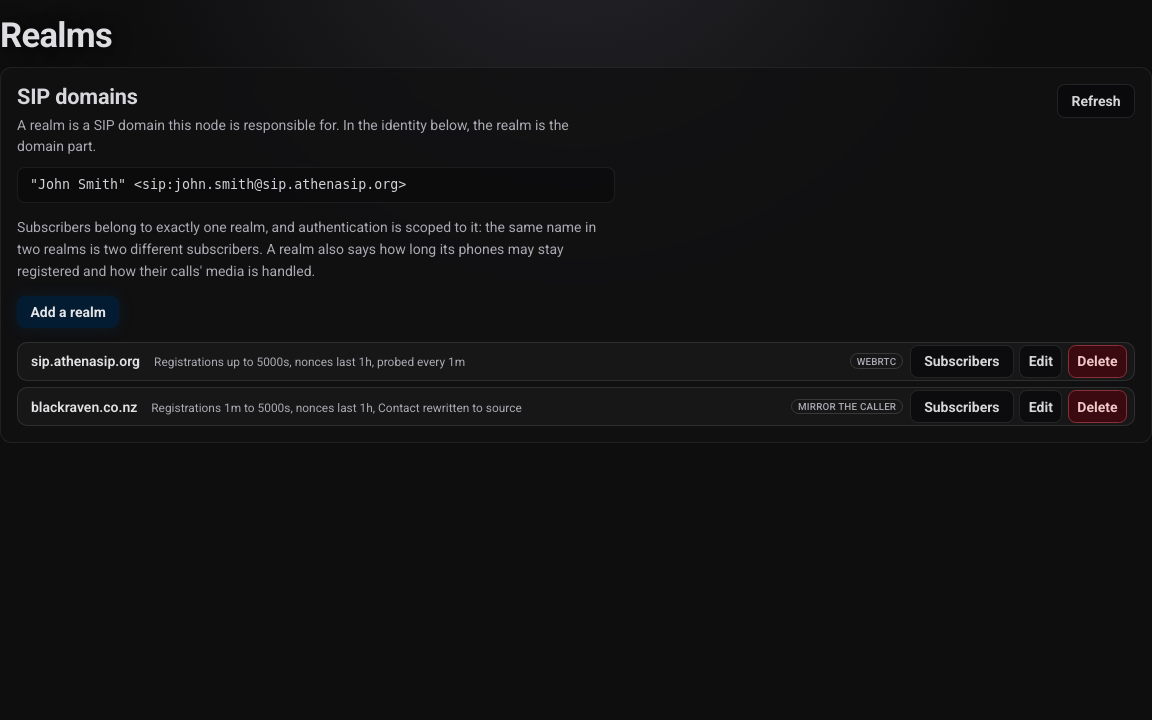
Test: RealmsScreen › turns Contact rewriting on for a realm, naming the server’s default
The image size is (1152, 720).
Click the button with aria-label "Edit sip.athenasip.org": [1041, 361] box [1019,345,1062,378]
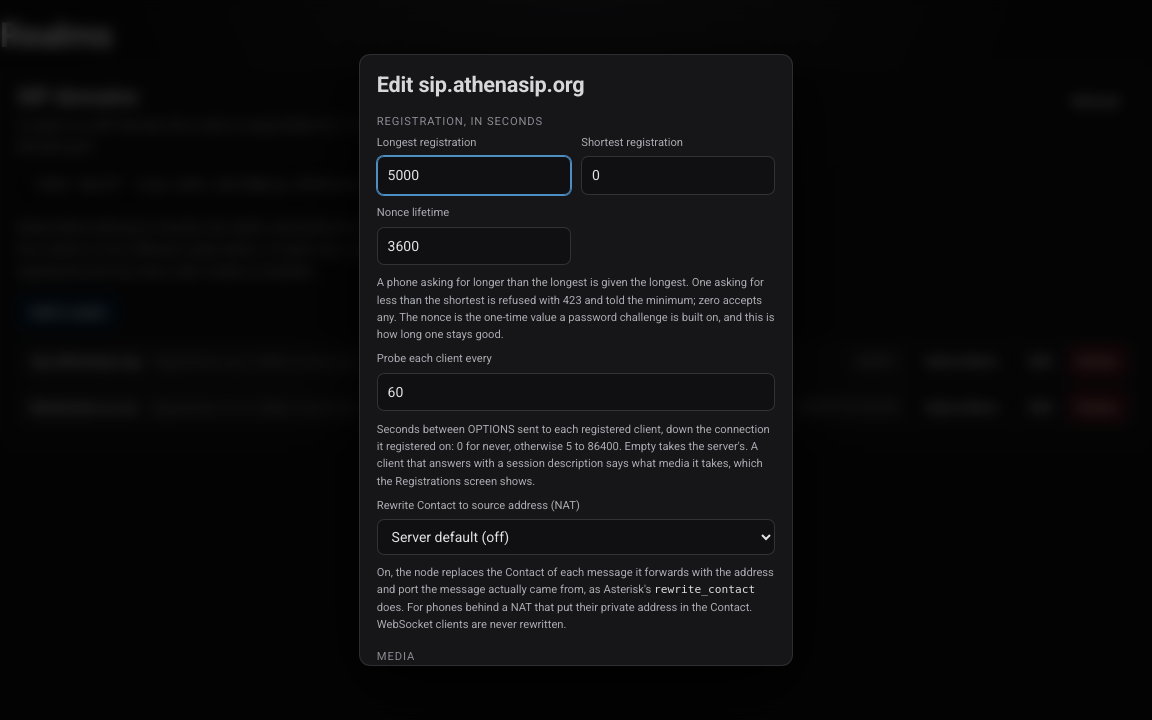
Select "On" in the dropdown labelled "Rewrite Contact to source address (NAT)": [576, 537] box [377,519,775,555]
(page scrolled)
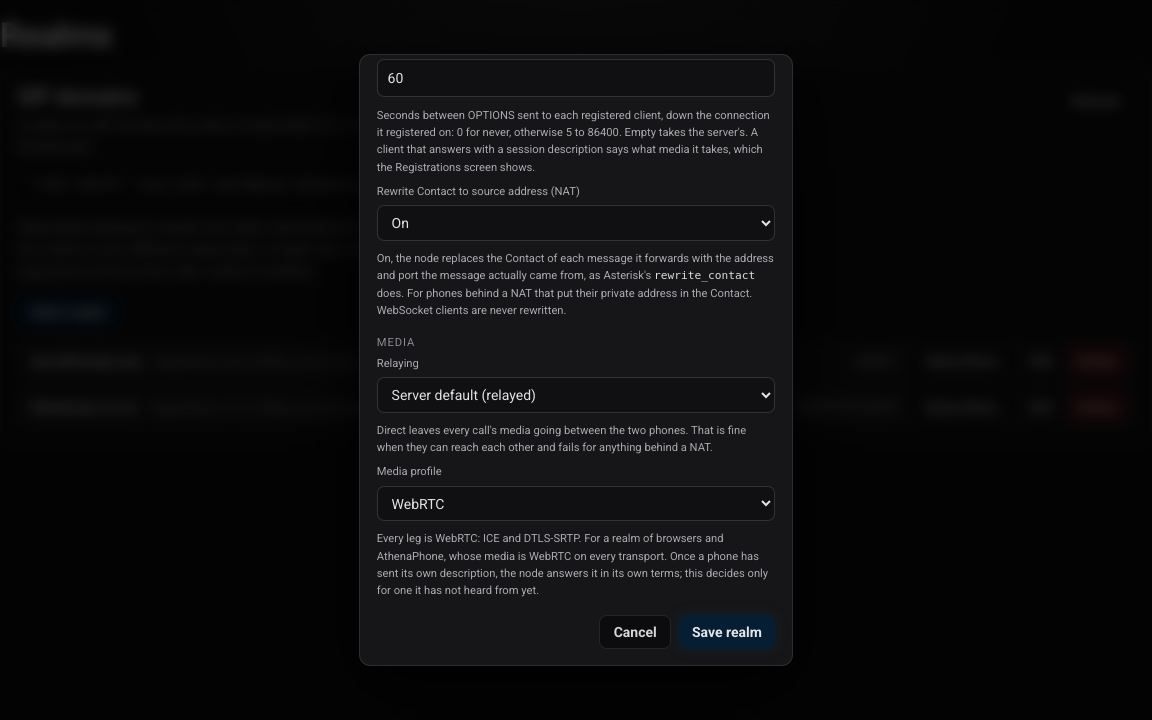
Click the button "Save realm": [727, 632] box [679,615,775,648]
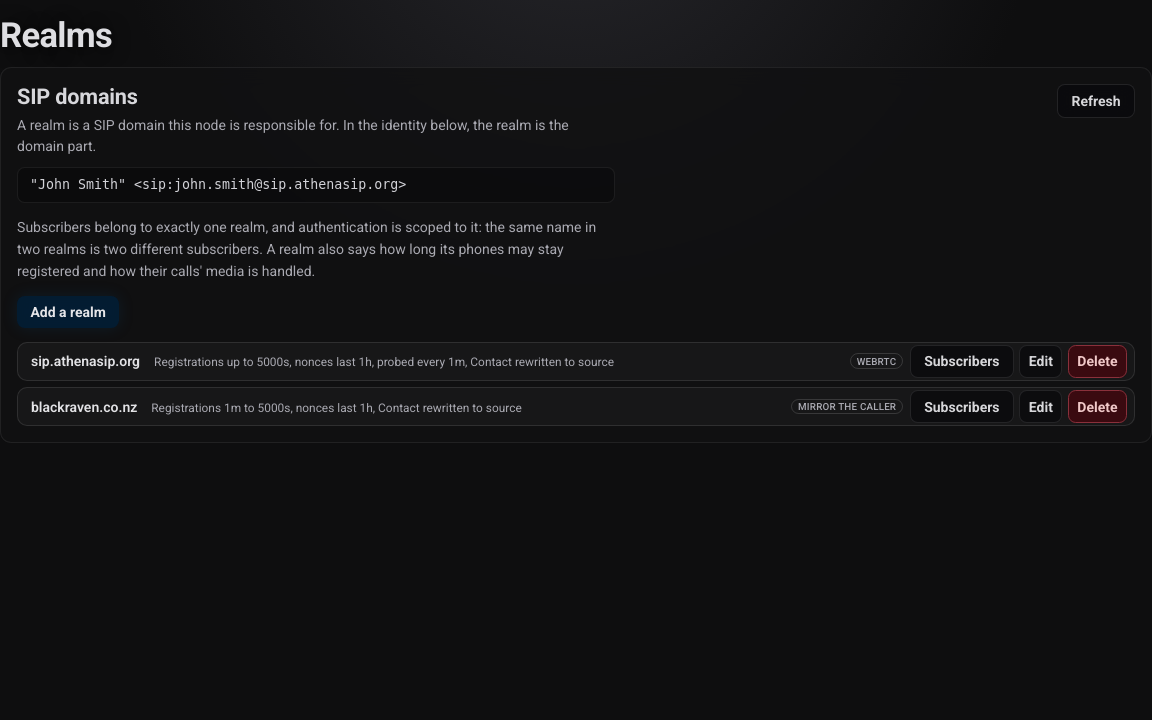
Check: the dialog is gone
Check: the element "sip.athenasip.org" shows "Contact rewritten to source", box [465,355,614,369]
